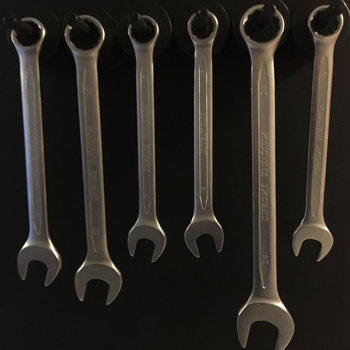bottom: (233, 296, 296, 350), (71, 258, 123, 308), (14, 237, 63, 289), (182, 214, 226, 262), (125, 216, 168, 265), (291, 219, 335, 263)
top: (236, 2, 287, 53), (60, 14, 107, 58), (304, 2, 344, 46), (7, 15, 48, 54), (124, 13, 162, 50), (185, 9, 220, 46)
